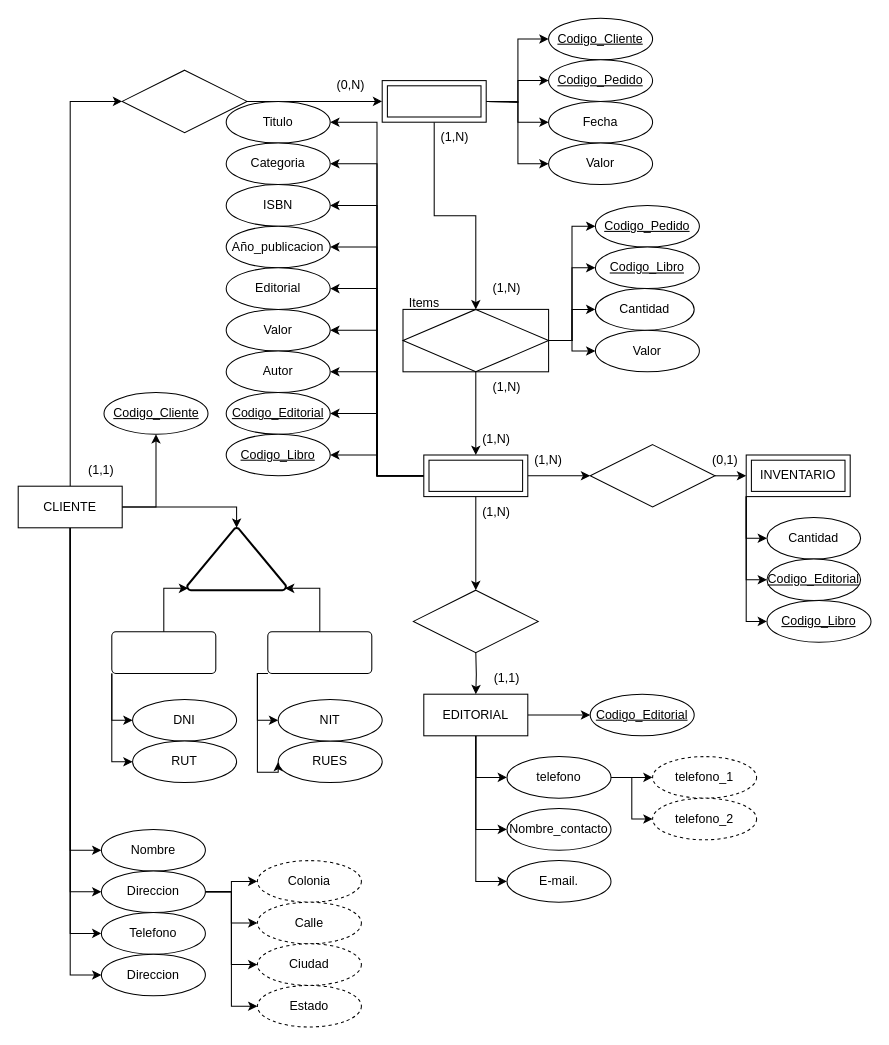
Some shapes in this 889 by 1045 pixel diagram are drawn without their labels. Here are the shapes that lost their labels. From the top down, the box of each, then its label:
(121, 69, 247, 133): Realiza
(381, 80, 486, 122): PEDIDO
(402, 308, 549, 372): Contiene
(423, 454, 528, 497): LIBRO
(589, 444, 715, 507): Existe
(186, 526, 287, 591): ID
(412, 589, 538, 653): Pertenece
(111, 631, 216, 673): PERSONA NATURAL
(267, 631, 372, 673): PERSONA JURIDICA
